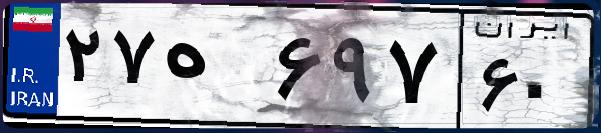0: (525, 38, 570, 115)
2: (57, 26, 110, 100)
6: (270, 28, 330, 110), (475, 38, 525, 113)
7: (385, 28, 445, 110), (110, 28, 158, 98)
9: (330, 28, 385, 110)
ه: (158, 20, 270, 120)
